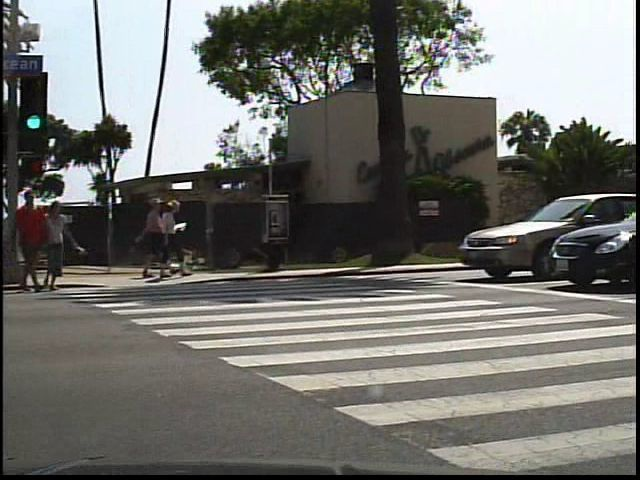person: (13, 190, 52, 298), (47, 197, 88, 294)
